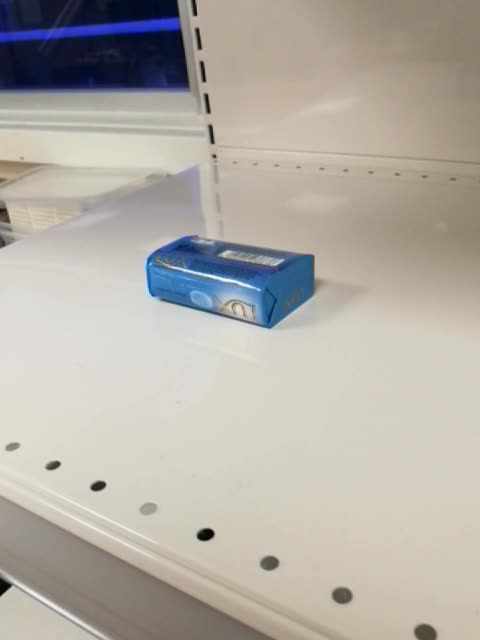soap: (143, 233, 317, 331)
